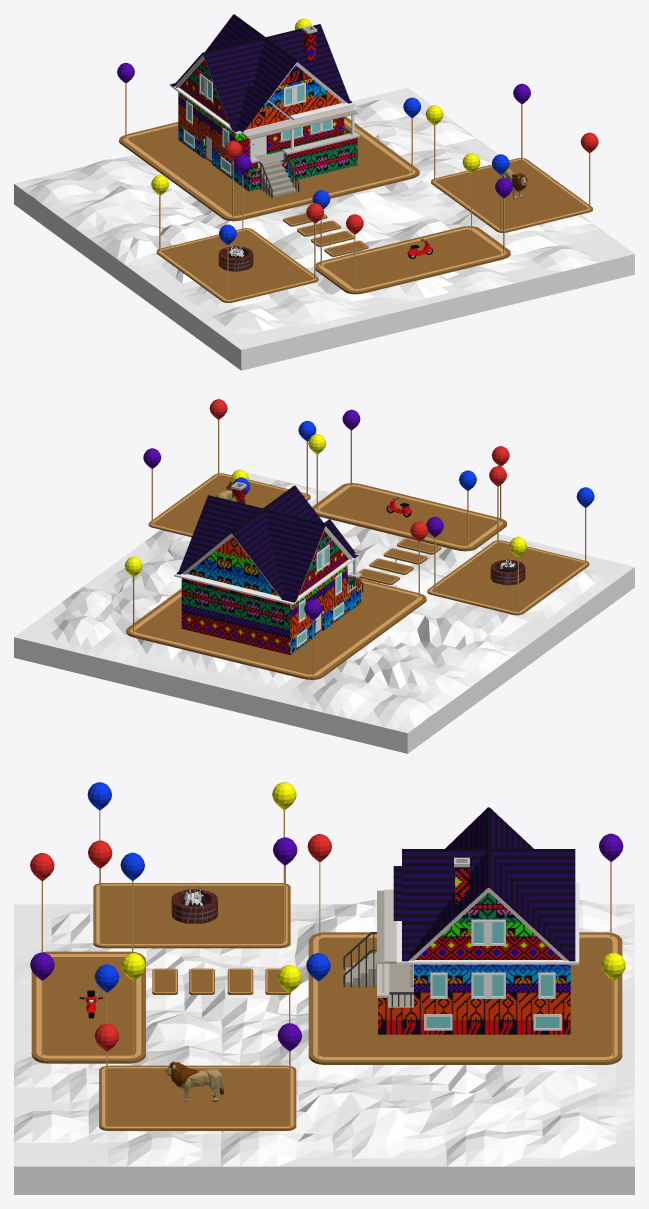
3 renders of one model, top to bottom at view 1: azimuth 30°, elevation 25°; view 2: azimuth 150°, elevation 25°; view 3: azimuth 270°, elevation 25°, orthographic. The views are drawn at different scales.
Parts seen in each view (by area): view 1: Cube.013, Cube.966, OBJRANDOM_CAMPFIRE; view 2: Cube.013, Cube.966, OBJRANDOM_CAMPFIRE; view 3: Cube.013, Cube.966, OBJRANDOM_CAMPFIRE, ANIMAL_LEON.
Boxes of the visible parts, bbox=[...] form: Cube.013: bbox=[14, 18, 634, 370]; Cube.966: bbox=[169, 14, 360, 198]; OBJRANDOM_CAMPFIRE: bbox=[218, 244, 253, 271]; Cube.013: bbox=[14, 399, 634, 753]; Cube.966: bbox=[174, 482, 363, 655]; OBJRANDOM_CAMPFIRE: bbox=[490, 559, 525, 585]; Cube.013: bbox=[14, 782, 634, 1194]; Cube.966: bbox=[343, 807, 579, 1034]; OBJRANDOM_CAMPFIRE: bbox=[171, 887, 217, 923]; ANIMAL_LEON: bbox=[165, 1061, 223, 1101].
Bounding box in the file's own units: 4000 × 1666 × 4000.
Materials: 41 (5 with a texture image).
